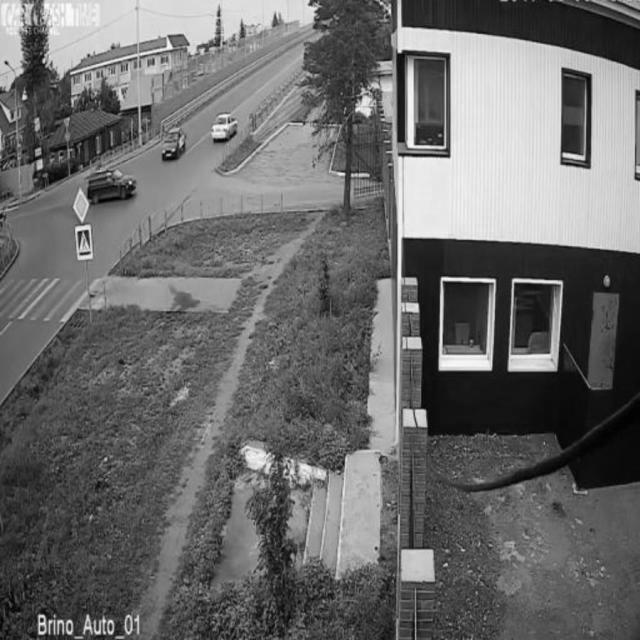vehicle: (85, 166, 137, 206), (159, 125, 187, 161), (210, 111, 240, 141)
